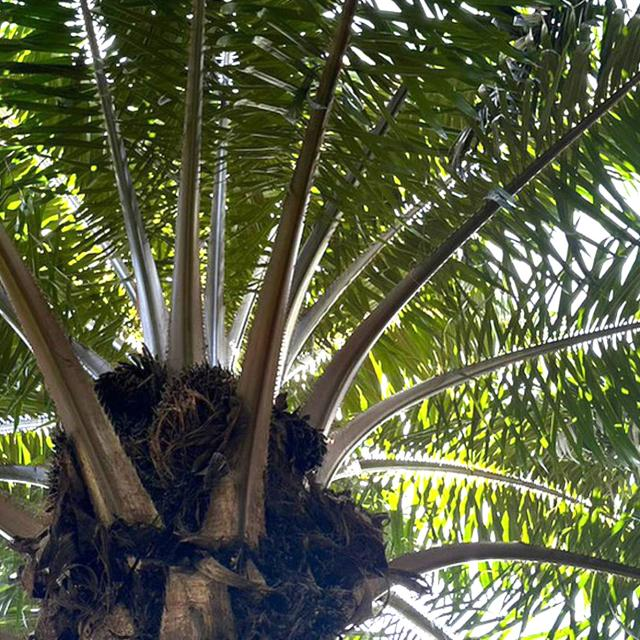ripe: (166, 361, 241, 439)
